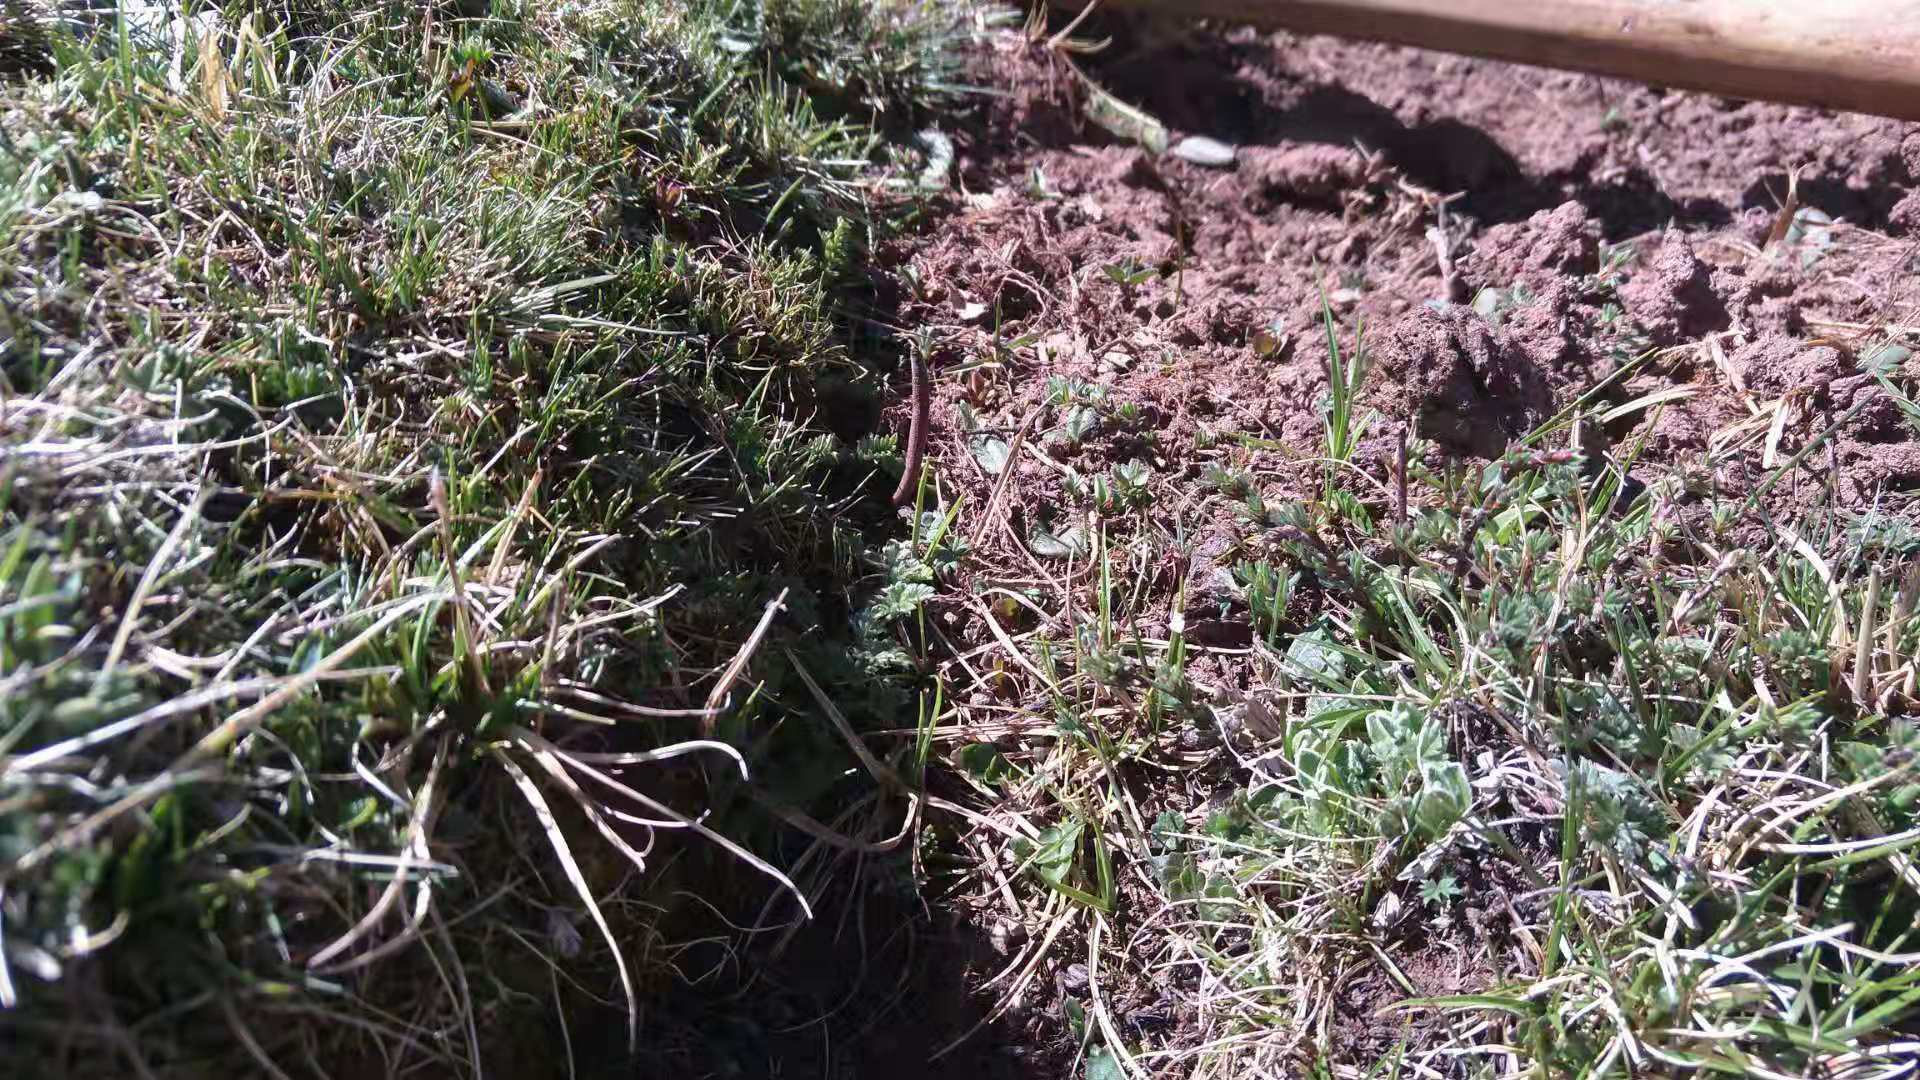Chongcao: (890, 345, 930, 506)
